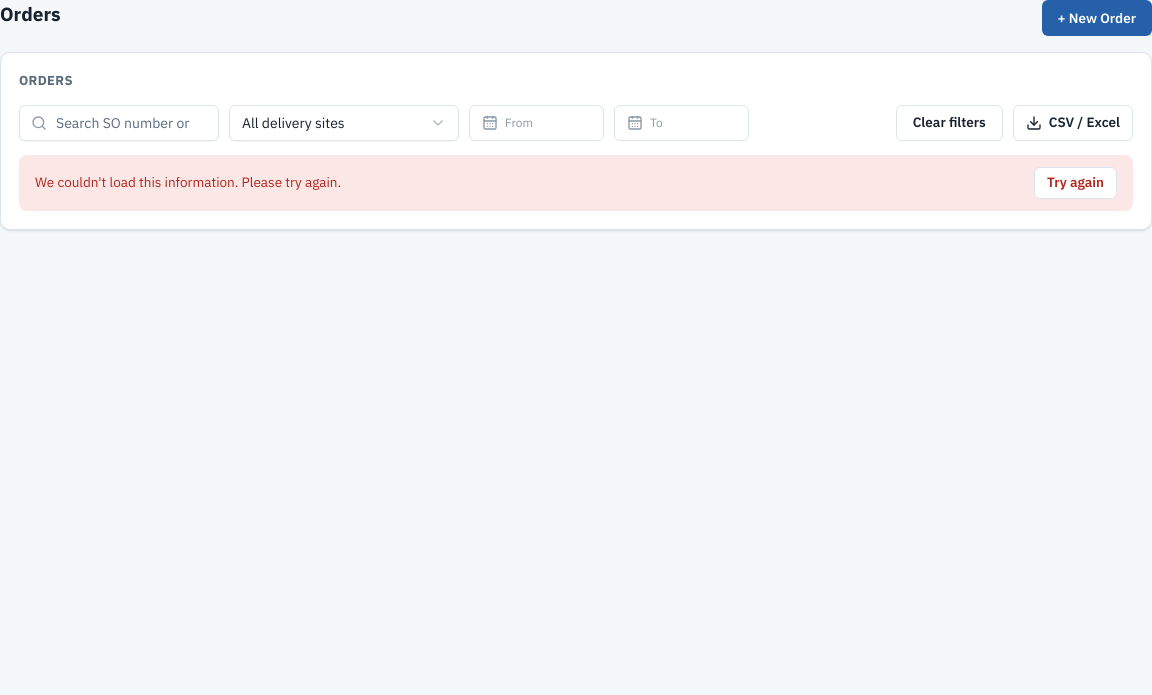
Test: a failed load shows the error and Try again reloads
Expected: the message shows "We couldn't load this information. Please try again.", [35, 173, 341, 191]
Click the button "Try again" at [1076, 182], box [1034, 166, 1117, 198]
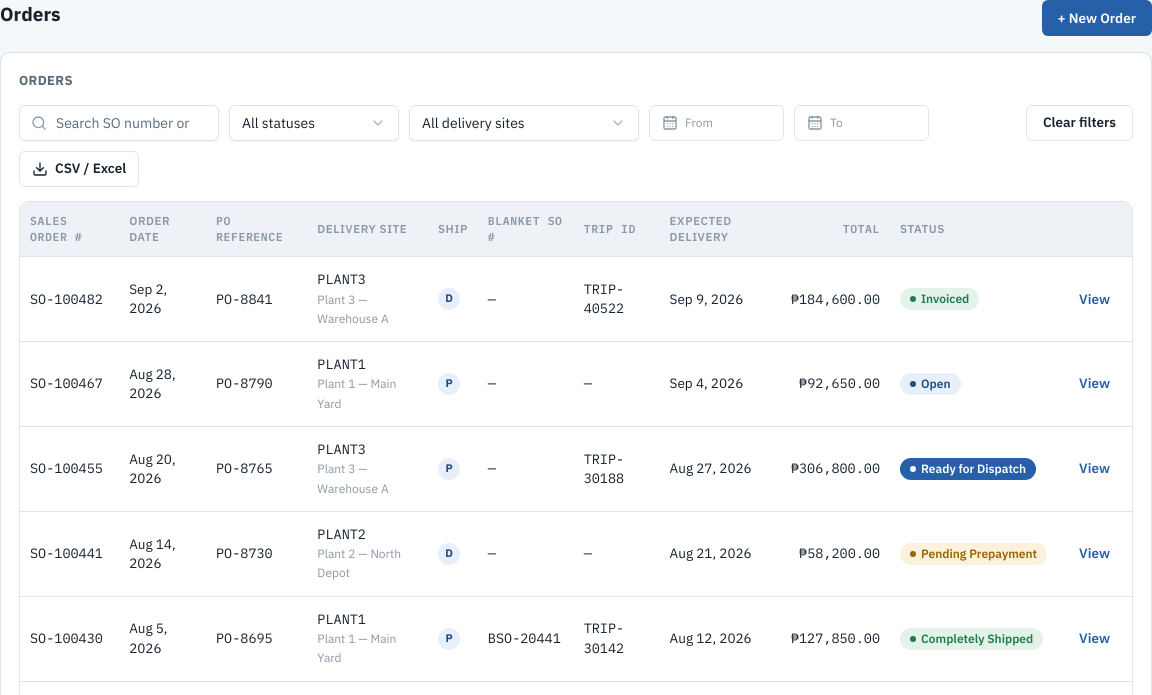
Expected: the row "SO-100482" is shown, [20, 257, 1132, 342]
